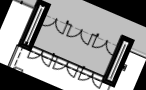double door: (76, 65, 107, 90), (51, 54, 81, 79), (41, 11, 70, 36), (65, 22, 95, 46), (27, 44, 55, 68), (91, 34, 119, 57)
